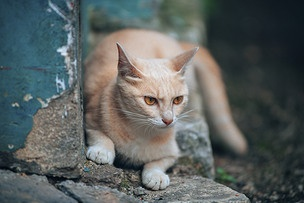cat: (82, 28, 249, 190)
